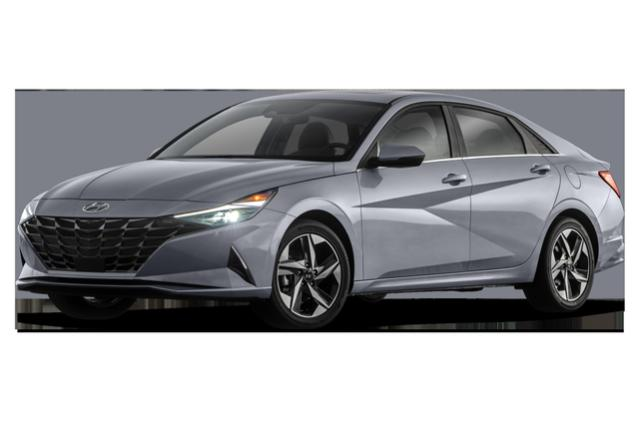hyundai: (14, 88, 626, 330)
